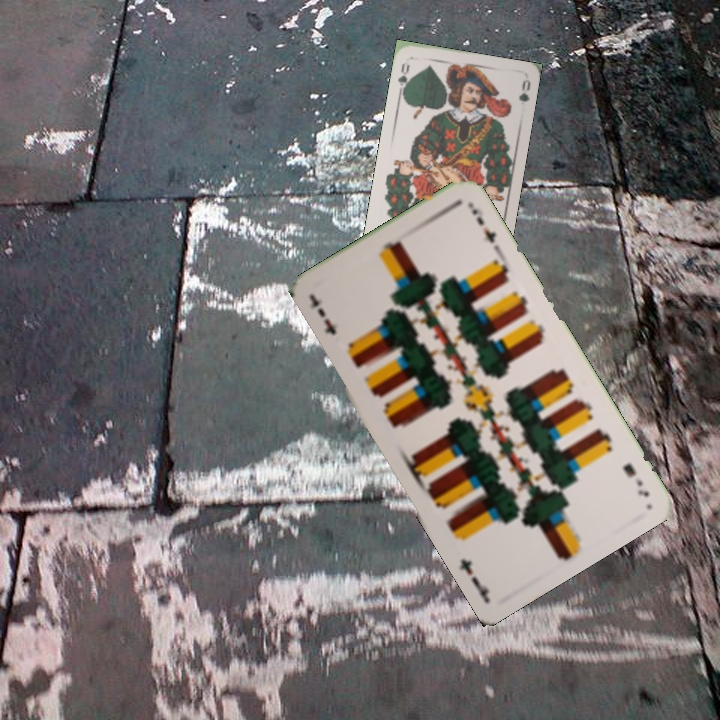E7: (619, 459, 652, 500), (313, 304, 340, 337)
GO: (394, 59, 413, 96)
